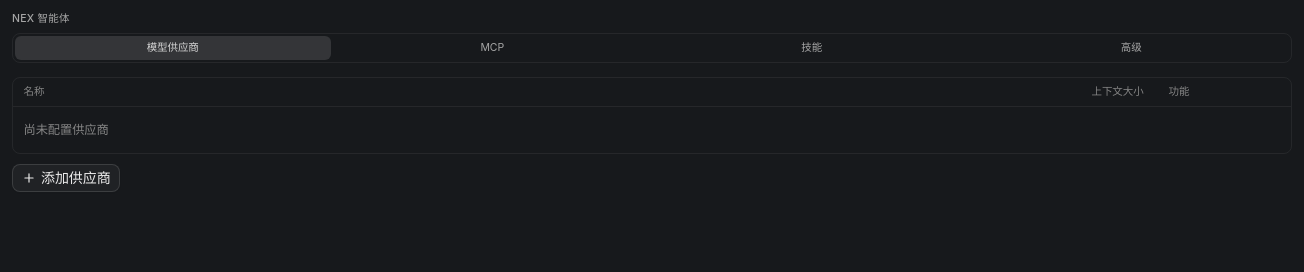
Test: NexAgentSection MCP and skills › auto-probes enabled MCP servers and shows connected status in green
The image size is (1304, 272).
Click the button "MCP". click: {"x": 492, "y": 48}
box: [334,36,650,60]
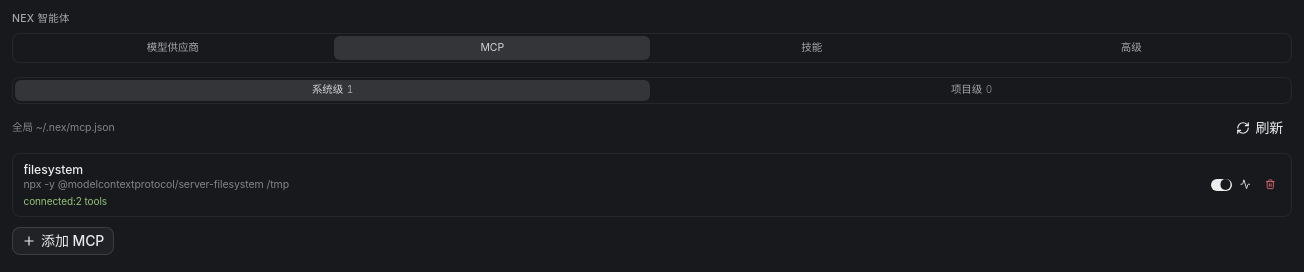
Now the button named "探测 filesystem" is shown, box [1235,174,1256,195]
Now the button named "删除 filesystem" is shown, box [1260,174,1280,195]
Now the switch named "启用 filesystem" is shown, box [1210,178,1232,191]
